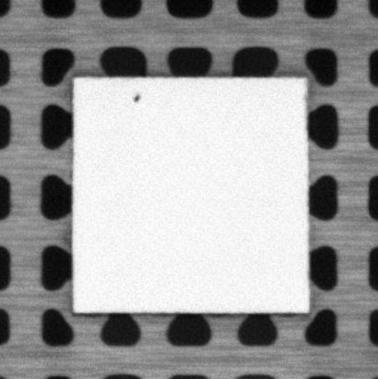DIE_INK: (130, 90, 141, 104)
